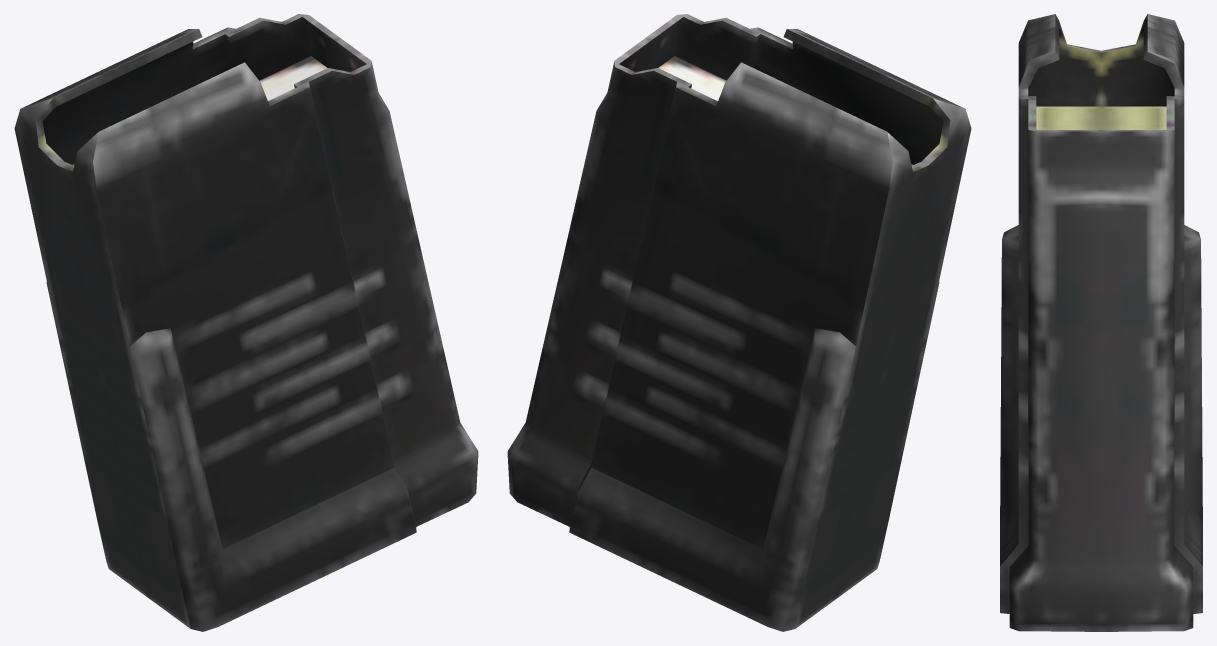
File: ST_WEP_VSS_Mag.FBX
3 renders of one model, left to right at view 1: azimuth 30°, elevation 25°; view 2: azimuth 150°, elevation 25°; view 3: azimuth 270°, elevation 25°, orthographic.
Parts seen in each view (by area): view 1: ST_WEP_VSS_Mag; view 2: ST_WEP_VSS_Mag; view 3: ST_WEP_VSS_Mag.
Part boxes in pixels (x1=…): ST_WEP_VSS_Mag: x1=14, y1=14, x2=478, y2=631; ST_WEP_VSS_Mag: x1=507, y1=14, x2=971, y2=631; ST_WEP_VSS_Mag: x1=1000, y1=14, x2=1202, y2=631.
Bounding box in the file's own units: 7.23 × 9.62 × 3.27.
1 material, 1 textured.
